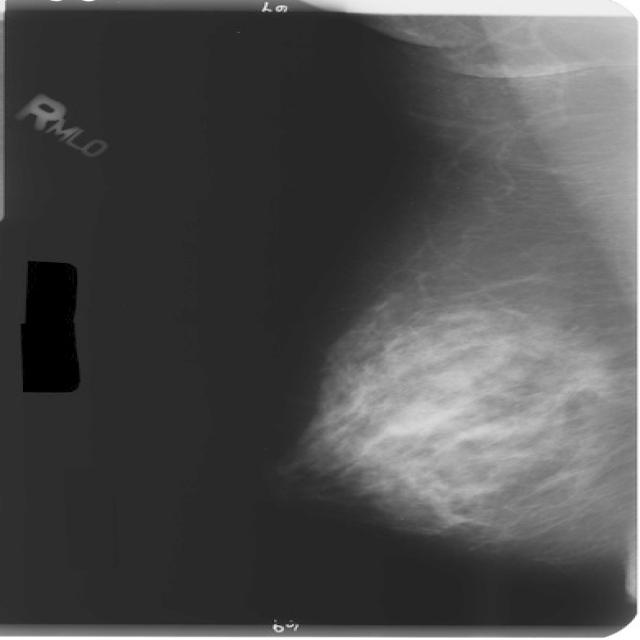tumour: (558, 362, 620, 397)
